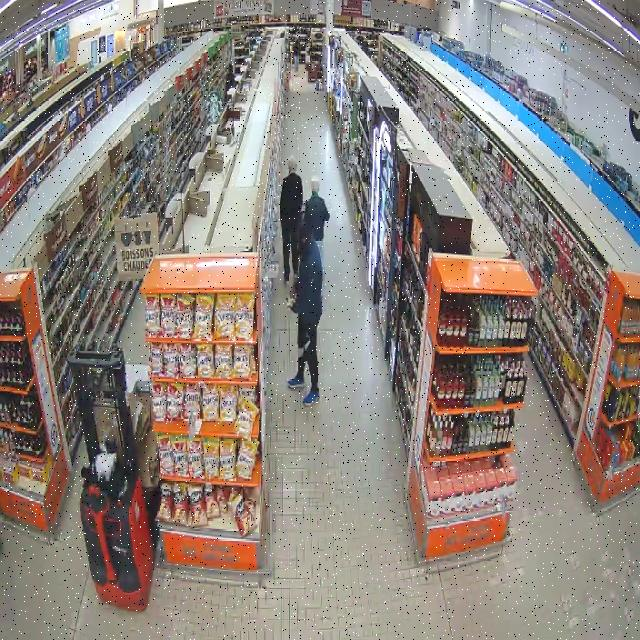article: (284, 298, 296, 308)
hands: (289, 284, 297, 298), (290, 305, 296, 314)
person: (288, 221, 322, 406), (280, 157, 302, 281), (304, 177, 329, 264)
